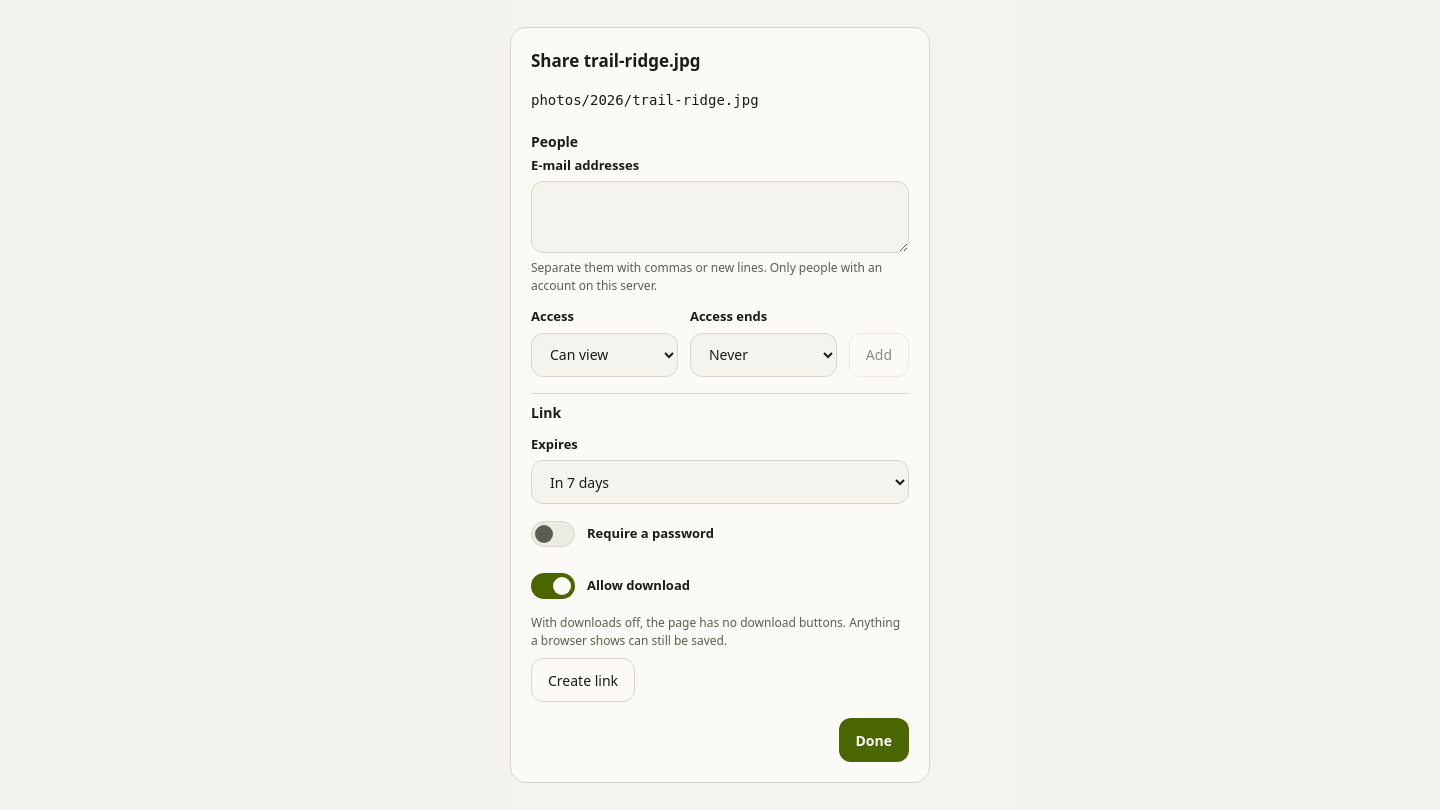
it: expiry choices are sent as days or null
The image size is (1440, 810).
Select "Never" in the dropdown labelled "Expires" at (720, 482), box [531,460,909,504]
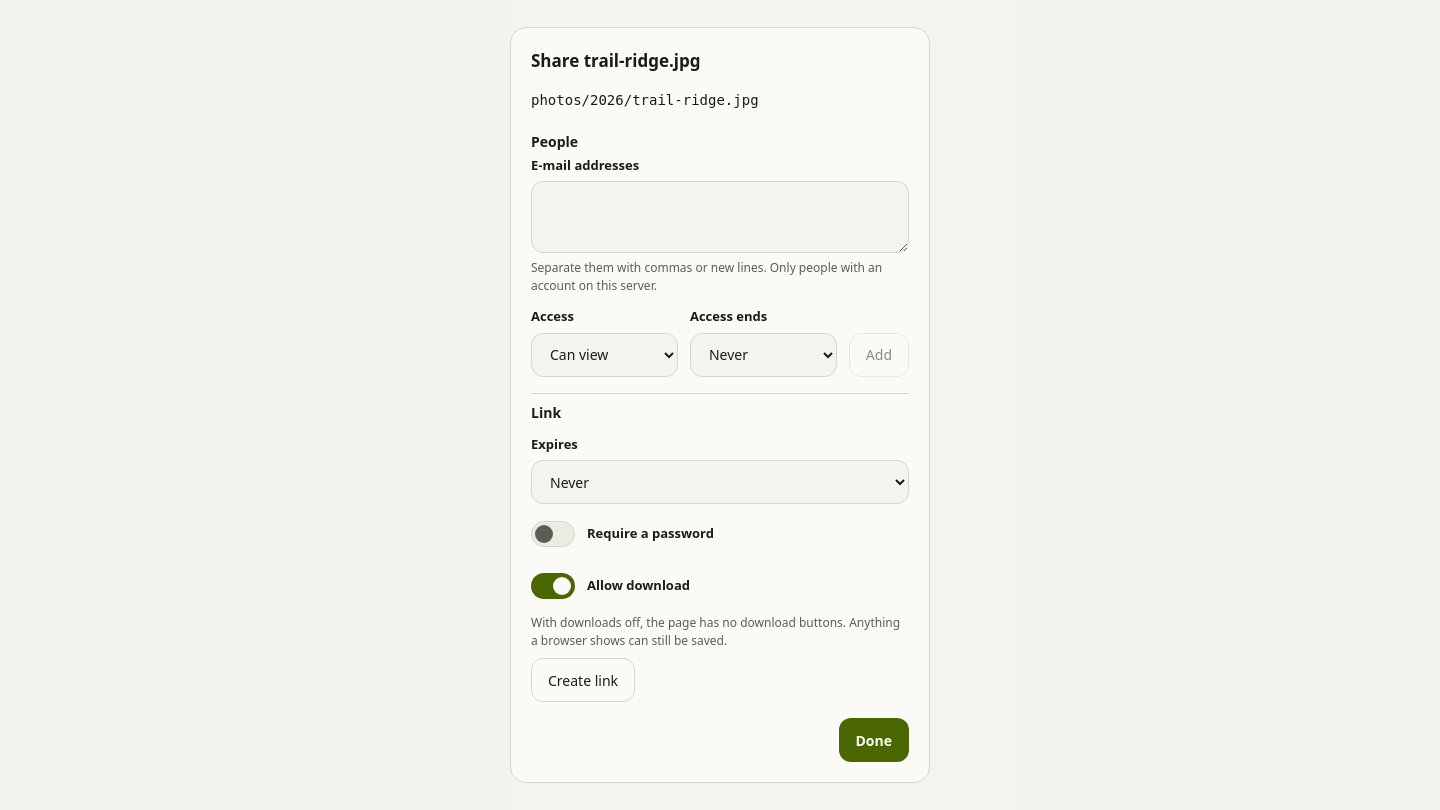
Click the button "Create link" at (583, 680), box [531,658,635,702]
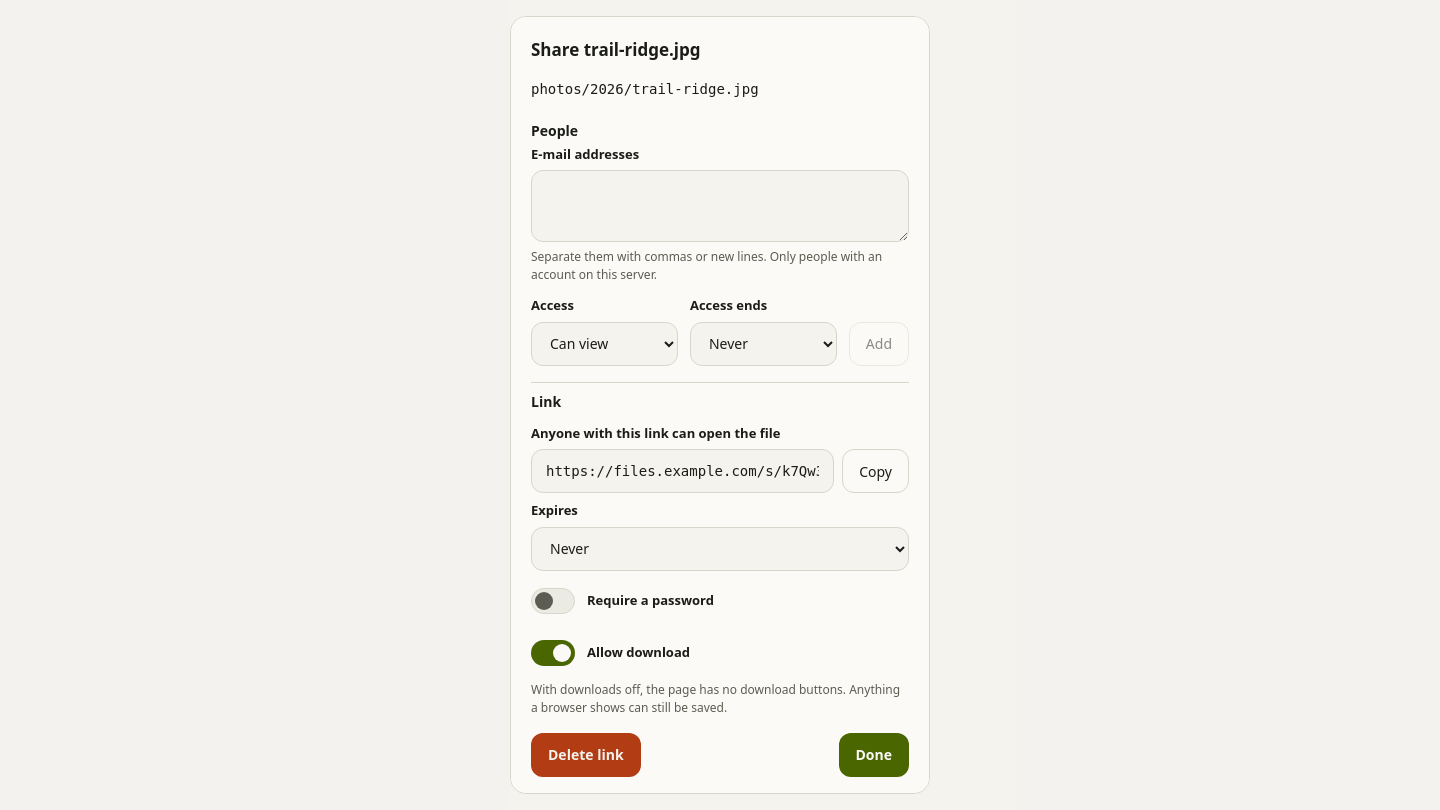
Result: the field labelled "Anyone with this link can open the file" is shown at [531,449,834,493]
